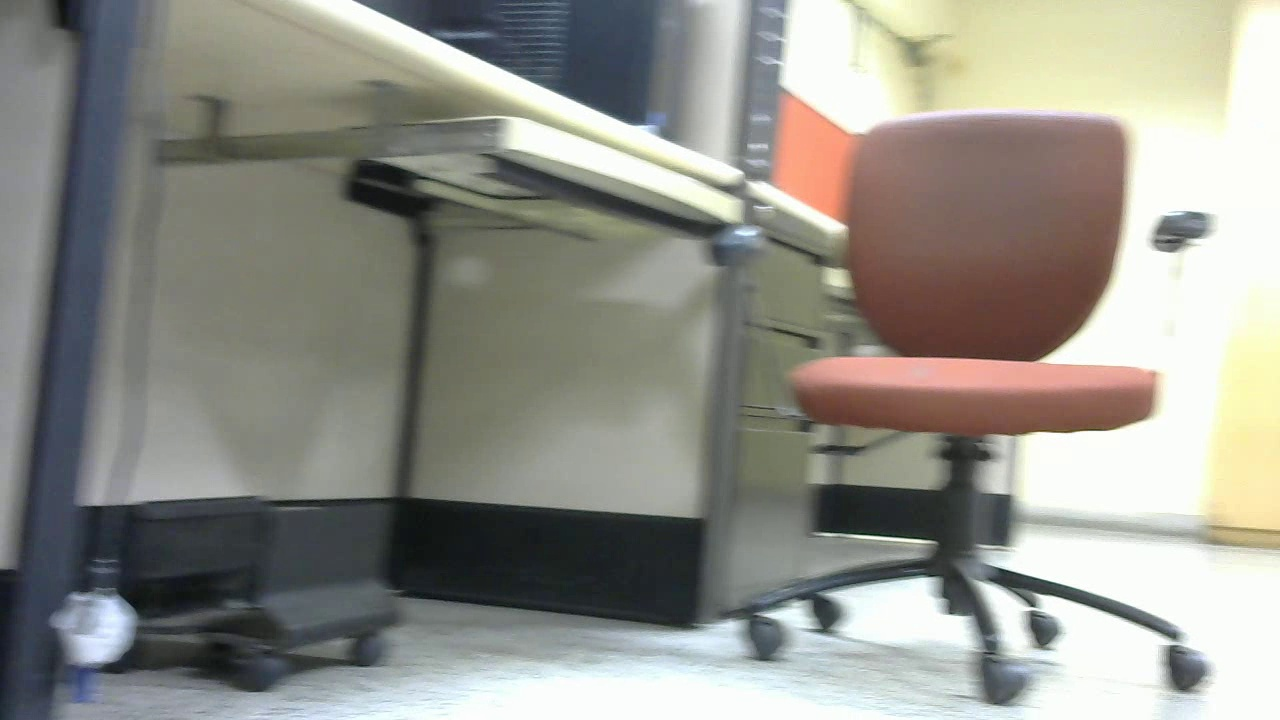chair: (329, 214, 586, 530), (1, 161, 153, 496)
